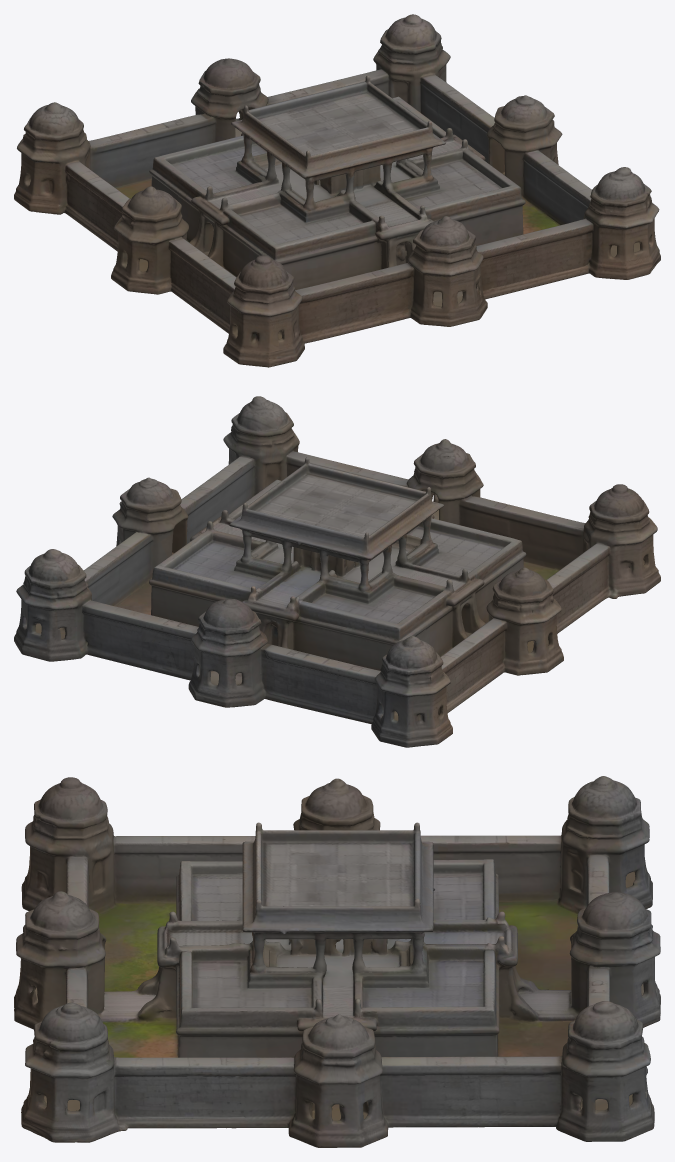
File: mysore_palace_ancient.glb
3 views of the same model, one above another, from view 1: azimuth 30°, elevation 25°; view 2: azimuth 150°, elevation 25°; view 3: azimuth 270°, elevation 25° (orthographic). The views are drawn at different scales.
Parts seen in each view (by area): view 1: tripo_node_77b7d545-4a52-4135-a599-bce5e2340c86; view 2: tripo_node_77b7d545-4a52-4135-a599-bce5e2340c86; view 3: tripo_node_77b7d545-4a52-4135-a599-bce5e2340c86.
Boxes of the visible parts, x1,y1,x2,y2 form: tripo_node_77b7d545-4a52-4135-a599-bce5e2340c86: (14,14,660,367); tripo_node_77b7d545-4a52-4135-a599-bce5e2340c86: (14,396,660,747); tripo_node_77b7d545-4a52-4135-a599-bce5e2340c86: (14,776,660,1147).
Bounding box in the file's own units: 0.9997 × 0.2609 × 1.
1 material, 1 textured.
